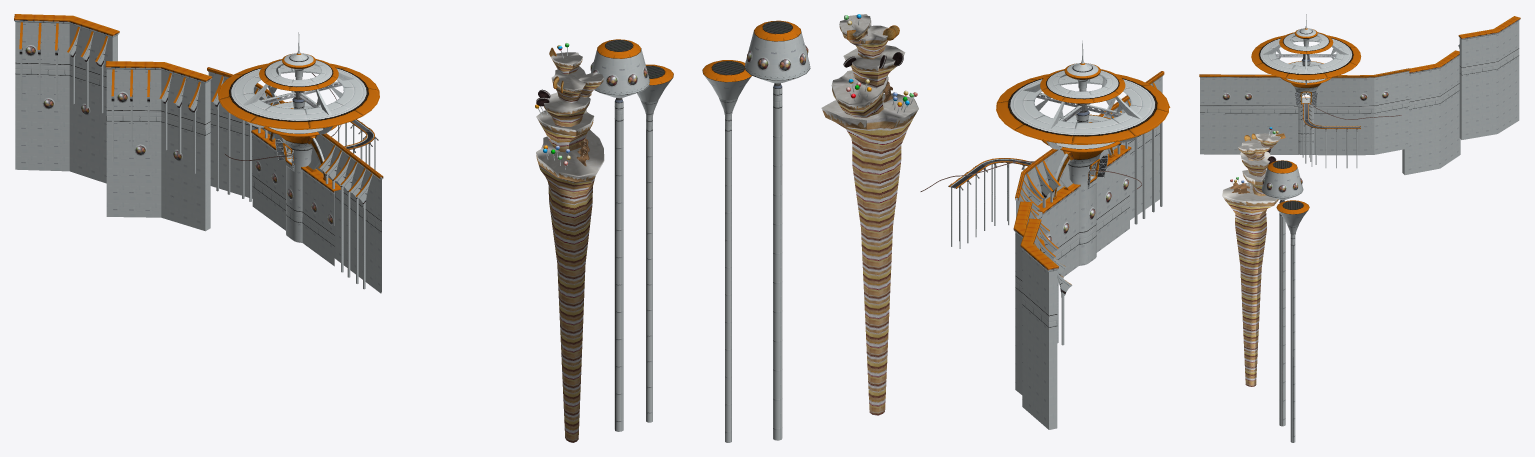
The model's file is stg220_05.obj.
3 renders of one model, left to right at view 1: azimuth 30°, elevation 25°; view 2: azimuth 150°, elevation 25°; view 3: azimuth 270°, elevation 25°, orthographic. The views are drawn at different scales.
Parts seen in each view (by area): view 1: polygon36, polygon43, polygon93, polygon73, polygon34, polygon72, polygon99, polygon92, polygon50, polygon107, polygon68, polygon66 (+13 smaller); view 2: polygon93, polygon43, polygon73, polygon72, polygon99, polygon92, polygon107, polygon66, polygon96, polygon34, polygon68, polygon62 (+17 smaller); view 3: polygon27, polygon43, polygon36, polygon93, polygon73, polygon29, polygon72, polygon99, polygon107, polygon92, polygon96, polygon2 (+8 smaller).
Part boxes in pixels (box(x1,y1,x2,y2)): polygon36: box(106, 69, 210, 231); polygon43: box(15, 22, 117, 183); polygon93: box(539, 61, 599, 442); polygon73: box(230, 53, 367, 121); polygon34: box(311, 134, 381, 293); polygon72: box(218, 53, 379, 137); polygon99: box(591, 62, 647, 431); polygon92: box(536, 52, 604, 176); polygon50: box(208, 72, 279, 198); polygon107: box(645, 111, 653, 422); polygon68: box(252, 134, 285, 230); polygon66: box(302, 171, 334, 266); polygon93: box(832, 27, 913, 415); polygon43: box(1022, 229, 1057, 429); polygon73: box(1009, 63, 1156, 135); polygon72: box(996, 63, 1169, 152); polygon99: box(747, 45, 807, 440); polygon92: box(822, 14, 918, 120); polygon107: box(723, 109, 733, 442); polygon66: box(1096, 151, 1129, 252); polygon96: box(745, 30, 809, 83); polygon34: box(1103, 76, 1162, 219); polygon68: box(1042, 189, 1078, 276); polygon62: box(1068, 165, 1096, 265); polygon27: box(1200, 71, 1409, 154); polygon43: box(1459, 21, 1519, 139); polygon36: box(1402, 56, 1460, 174); polygon93: box(1226, 139, 1277, 386); polygon73: box(1259, 28, 1352, 74); polygon29: box(1200, 91, 1409, 113); polygon72: box(1251, 28, 1361, 85); polygon99: box(1263, 177, 1302, 426); polygon107: box(1290, 232, 1295, 442); polygon92: box(1222, 133, 1280, 201); polygon96: box(1262, 168, 1302, 200); polygon2: box(1302, 106, 1357, 168).
Bounding box in the file's own units: 5203 × 4650 × 4297.
Materials: 40 (40 with a texture image).
